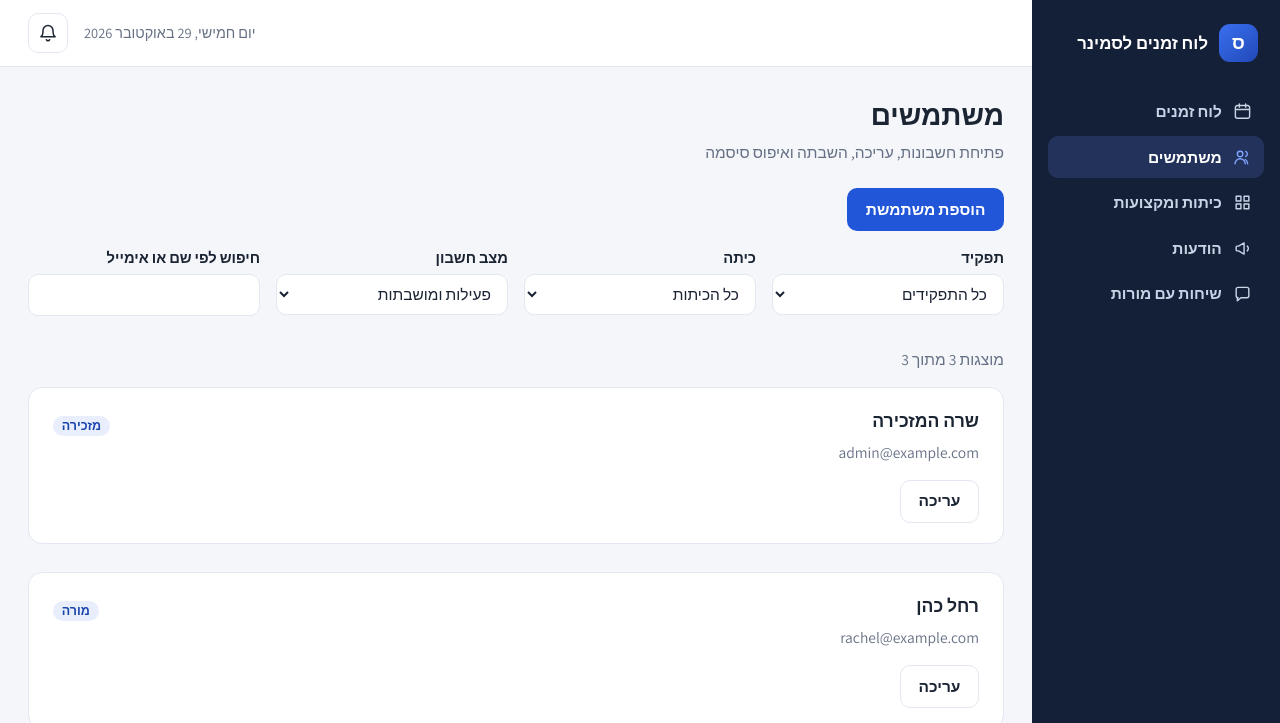
Test case: ניהול משתמשים › יצירת חשבון › אימייל לא תקין וסיסמה קצרה נדחים
Click the button "הוספת משתמשת".
click(926, 209)  # box [847,188,1004,231]
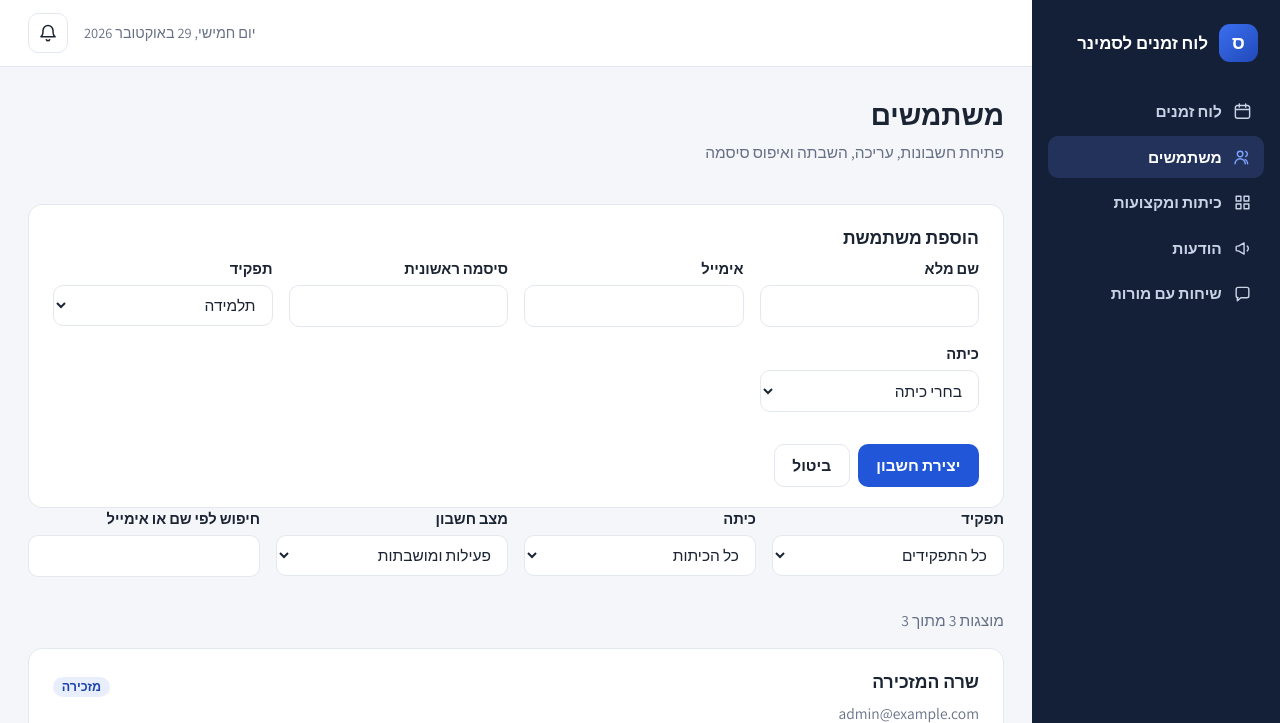
Type "not-an-email" into the field labelled "אימייל".
click(634, 306); type("not-an-email")  # box [524,284,744,327]
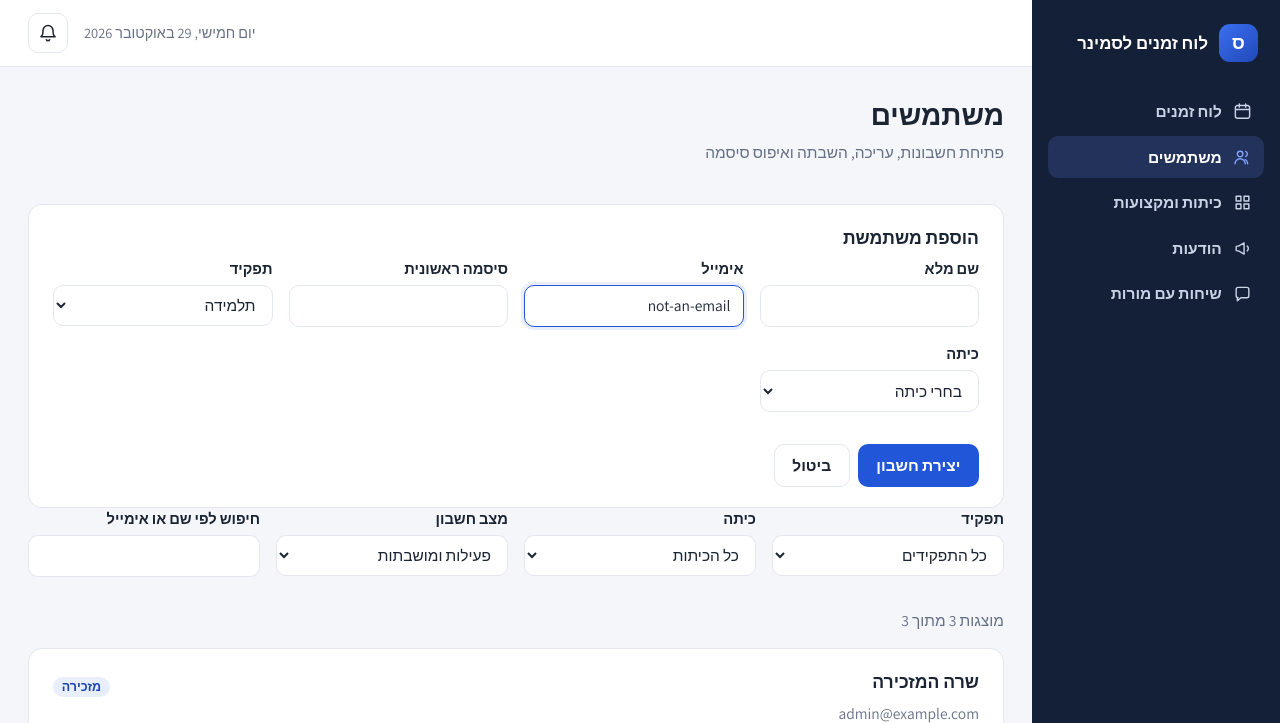
Type "123" into the password field labelled "סיסמה ראשונית".
click(398, 306); type("123")  # box [288,284,508,327]
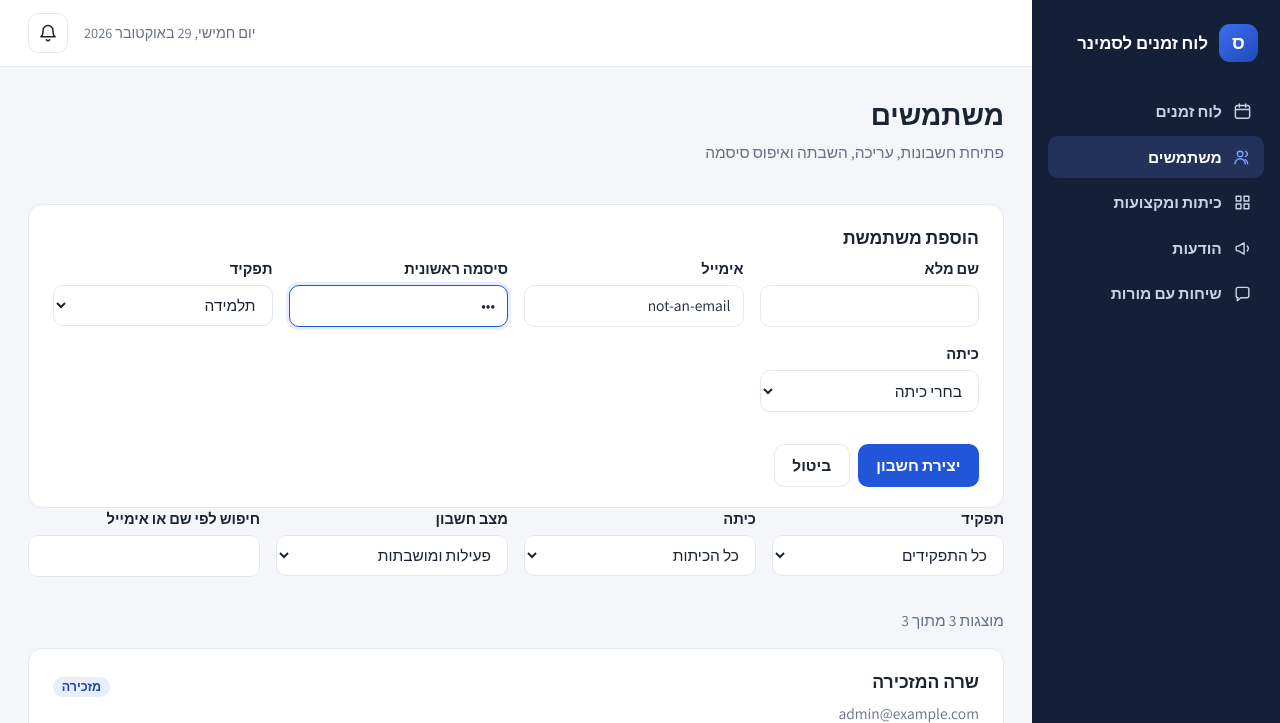
Click the button "יצירת חשבון".
click(918, 465)  # box [858,444,979,487]
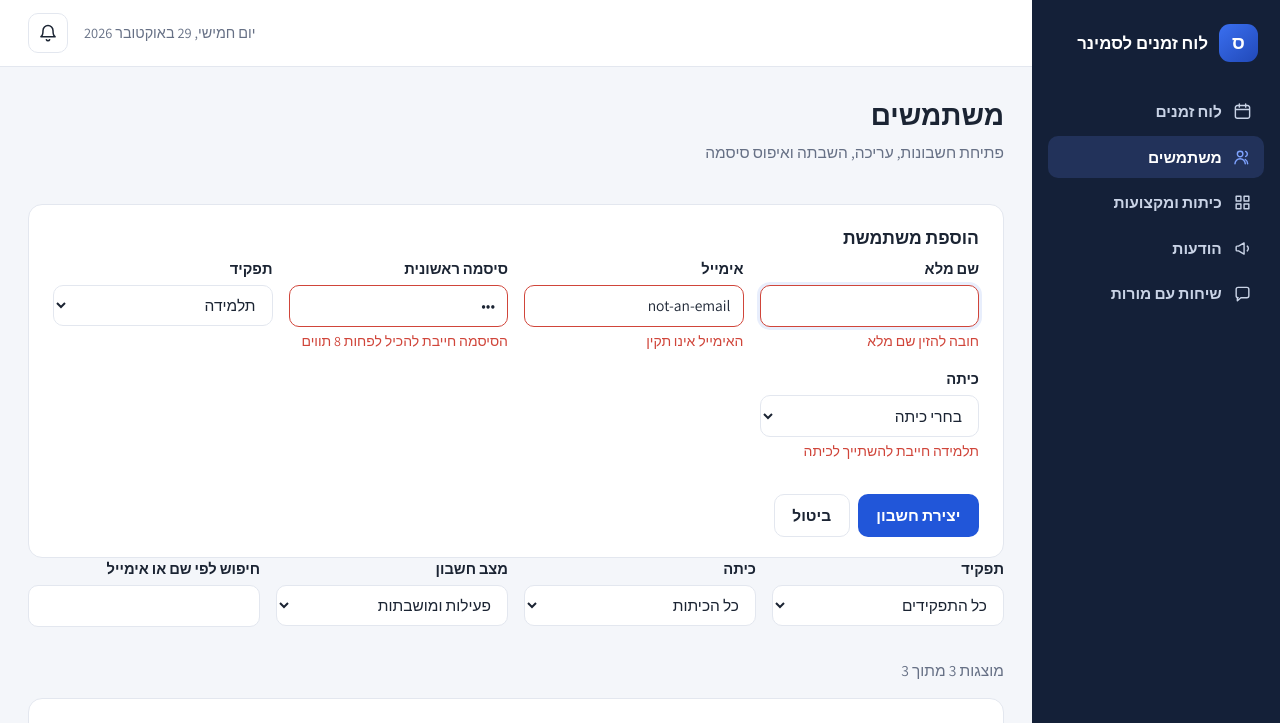
Expected: the text "האימייל אינו תקין" is shown, [646,332,744,350]
Expected: the text "הסיסמה חייבת להכיל לפחות 8 תווים" is shown, [288,331,508,352]
